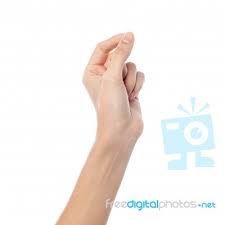hand: (72, 24, 164, 147)
